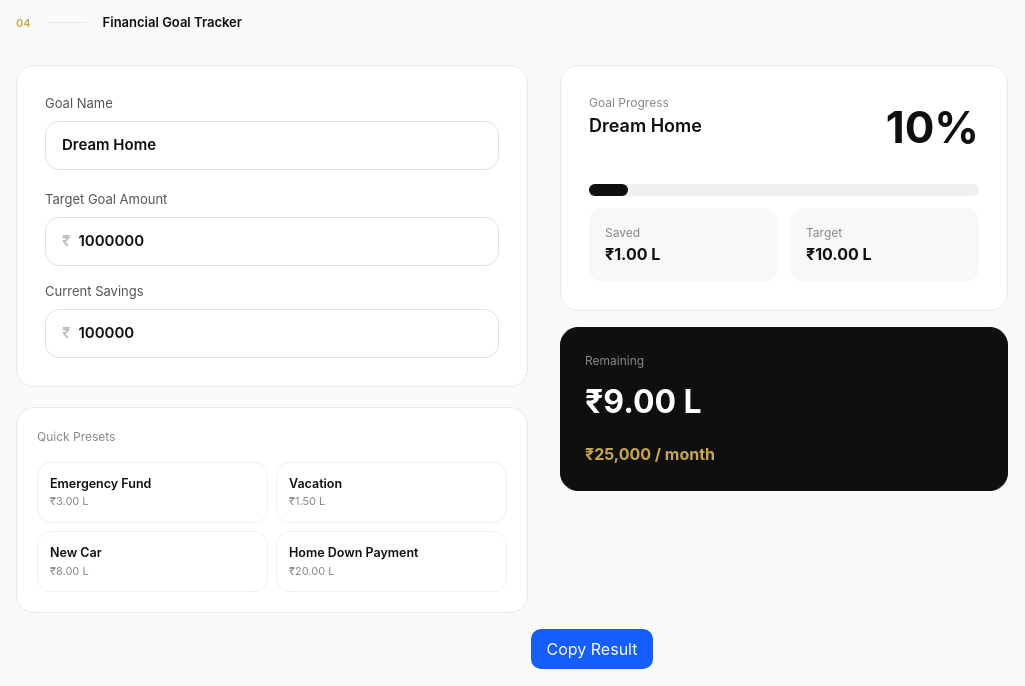
GoalTracker › handles copy result
Click the button "Copy Result".
click(592, 649)  # box left=530, top=629, right=653, bottom=669
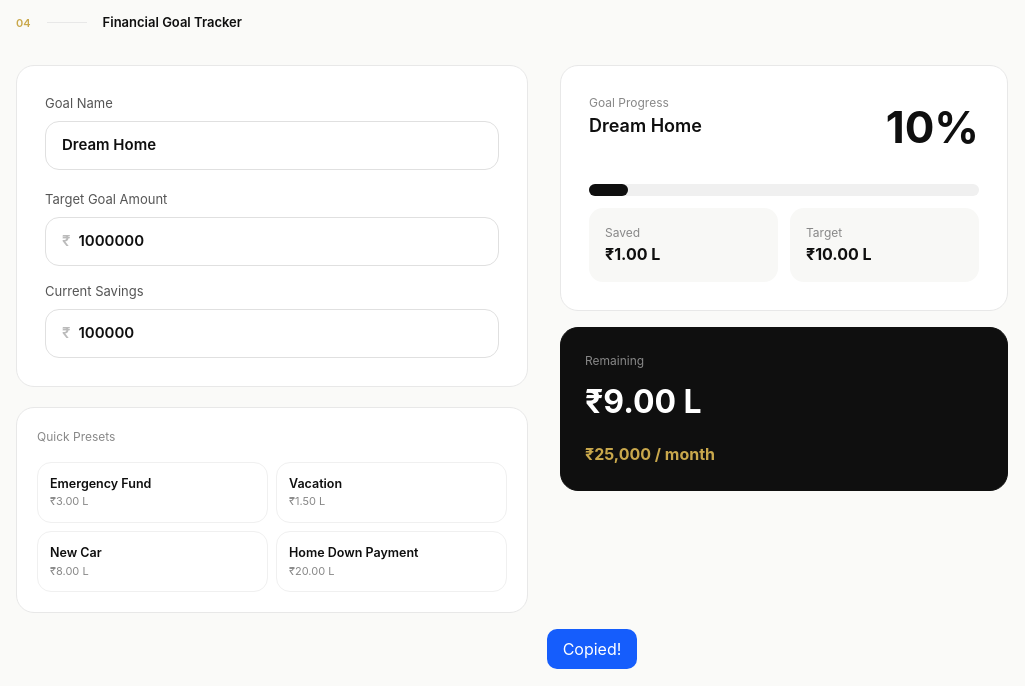
Check: the button "Copied!" is shown, box left=547, top=629, right=637, bottom=669
